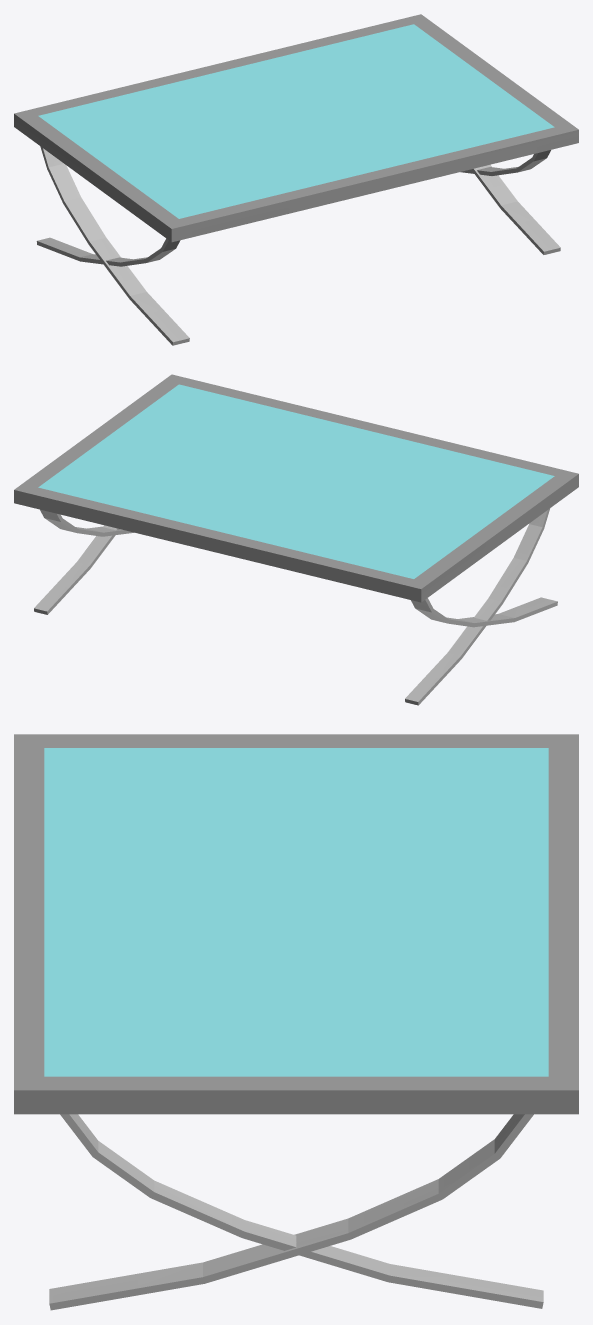
File: kitchen_table_008.glb
3 renders of one model, top to bottom at view 1: azimuth 30°, elevation 25°; view 2: azimuth 150°, elevation 25°; view 3: azimuth 270°, elevation 25°, orthographic. The views are drawn at different scales.
Visible parts, largest first — view 1: kitchen_table_008; view 2: kitchen_table_008; view 3: kitchen_table_008.
Part boxes in pixels (x1,y1,x2,y2): kitchen_table_008: (14, 14, 578, 345); kitchen_table_008: (14, 374, 578, 705); kitchen_table_008: (14, 734, 578, 1310).
Size of the model in its own units: 2.37 by 0.7061 by 1.59.
Materials: 1 (1 with a texture image).
